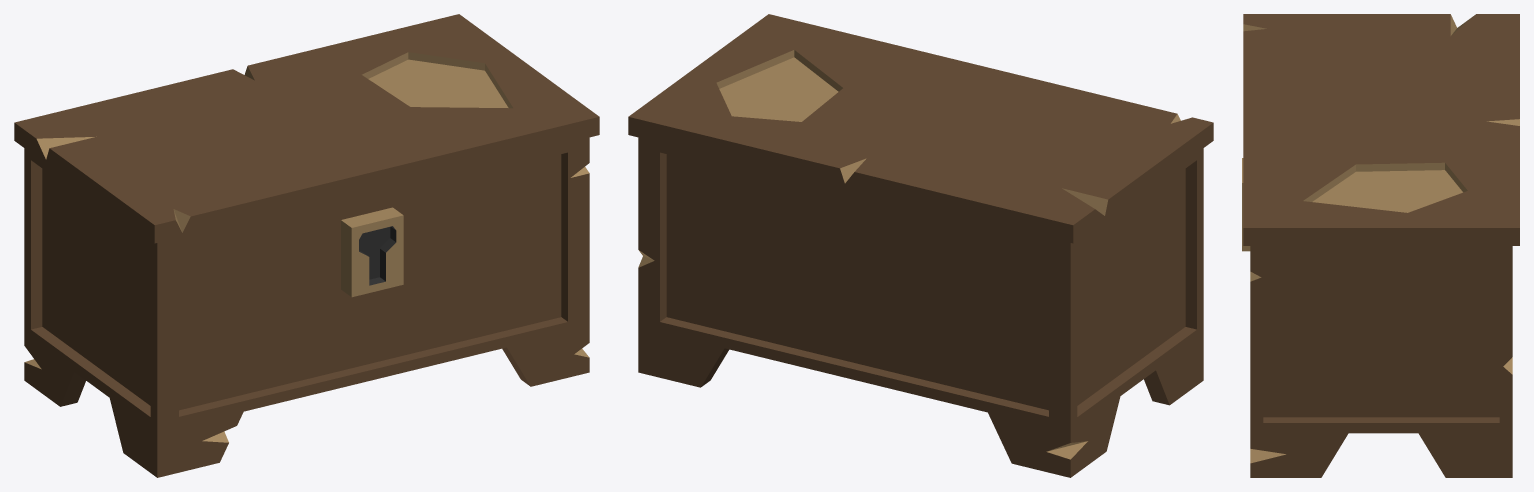
File: Box_4_Brown.fbx
3 renders of one model, left to right at view 1: azimuth 30°, elevation 25°; view 2: azimuth 150°, elevation 25°; view 3: azimuth 270°, elevation 25°, orthographic.
Parts seen in each view (by area): view 1: Box_4_Brown_Part_1, Box_4_Brown_Part_2, Box_4_Brown_Part_3; view 2: Box_4_Brown_Part_1, Box_4_Brown_Part_2; view 3: Box_4_Brown_Part_1, Box_4_Brown_Part_2.
Boxes of the visible parts, x1=… form: Box_4_Brown_Part_1: x1=14, y1=14, x2=599, y2=477; Box_4_Brown_Part_2: x1=25, y1=52, x2=589, y2=442; Box_4_Brown_Part_3: x1=359, y1=226, x2=396, y2=285; Box_4_Brown_Part_1: x1=628, y1=14, x2=1213, y2=477; Box_4_Brown_Part_2: x1=638, y1=50, x2=1180, y2=459; Box_4_Brown_Part_1: x1=1243, y1=14, x2=1519, y2=477; Box_4_Brown_Part_2: x1=1242, y1=14, x2=1519, y2=463.
Size of the model in its own units: 92.6 by 51.09 by 50.81.
